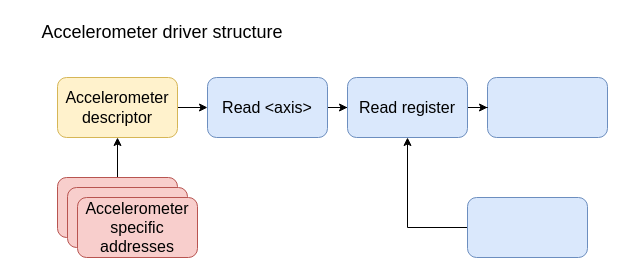
Some shapes in this 625 by 275 pixel diagram are drawn without their labels. The centre of each missing label's shape, as x and y in pixels:
"I2C receive [HAL]" belongs at point (527, 227).
"I2C transmit [HAL]" belongs at point (547, 107).
